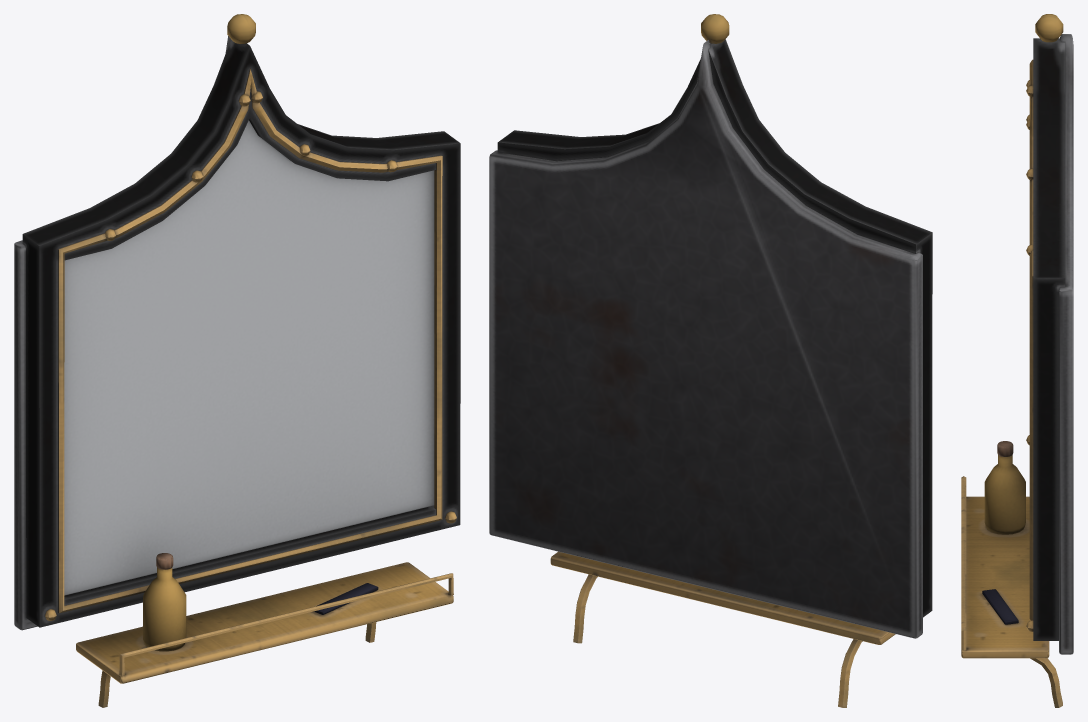
Rendered from BathroomMirror.fbx.
3 renders of one model, left to right at view 1: azimuth 30°, elevation 25°; view 2: azimuth 150°, elevation 25°; view 3: azimuth 270°, elevation 25°, orthographic. The views are drawn at different scales.
Parts seen in each view (by area): view 1: BathroomMirror_Mirror, BathroomMirror_Main; view 2: BathroomMirror_Main; view 3: BathroomMirror_Main.
Boxes of the visible parts, left/top/right/bottom form: BathroomMirror_Mirror: left=64, top=120, right=434, bottom=595; BathroomMirror_Main: left=14, top=14, right=460, bottom=707; BathroomMirror_Main: left=489, top=14, right=932, bottom=707; BathroomMirror_Main: left=961, top=14, right=1073, bottom=707.
Size of the model in its own units: 194 by 284 by 46.04.
